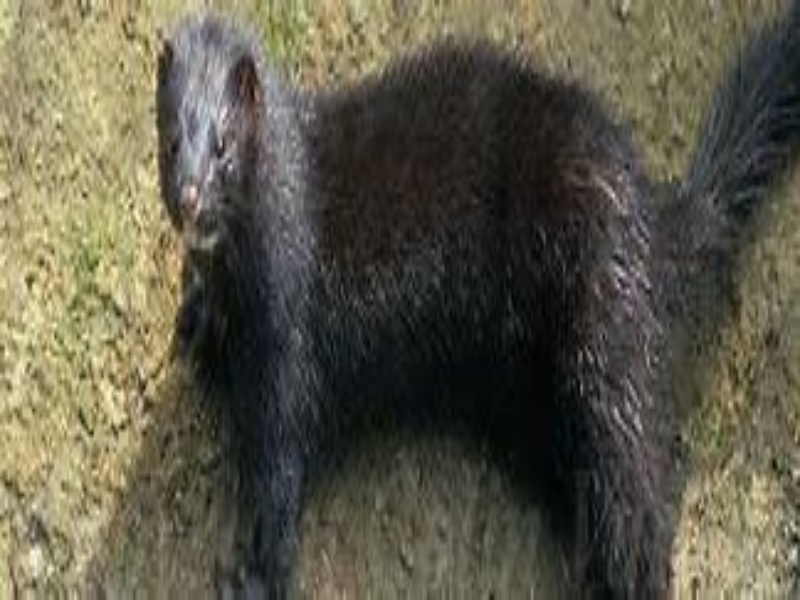minkish: (153, 12, 781, 597)
